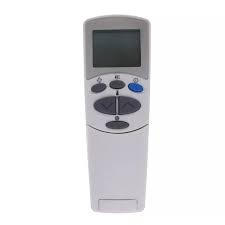remote control: (82, 17, 155, 211)
